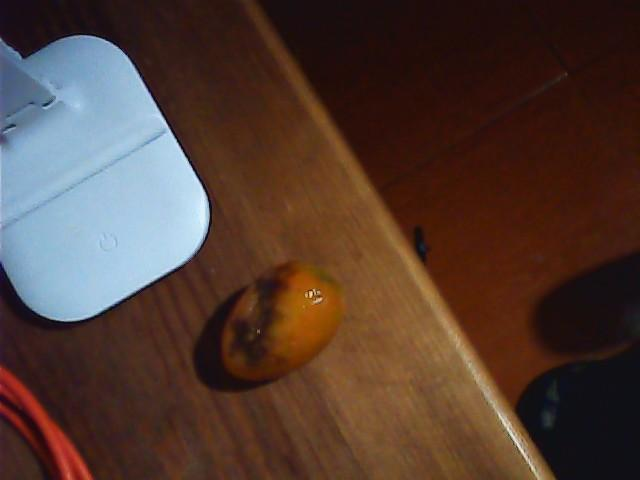defectuoso: (216, 263, 343, 386)
